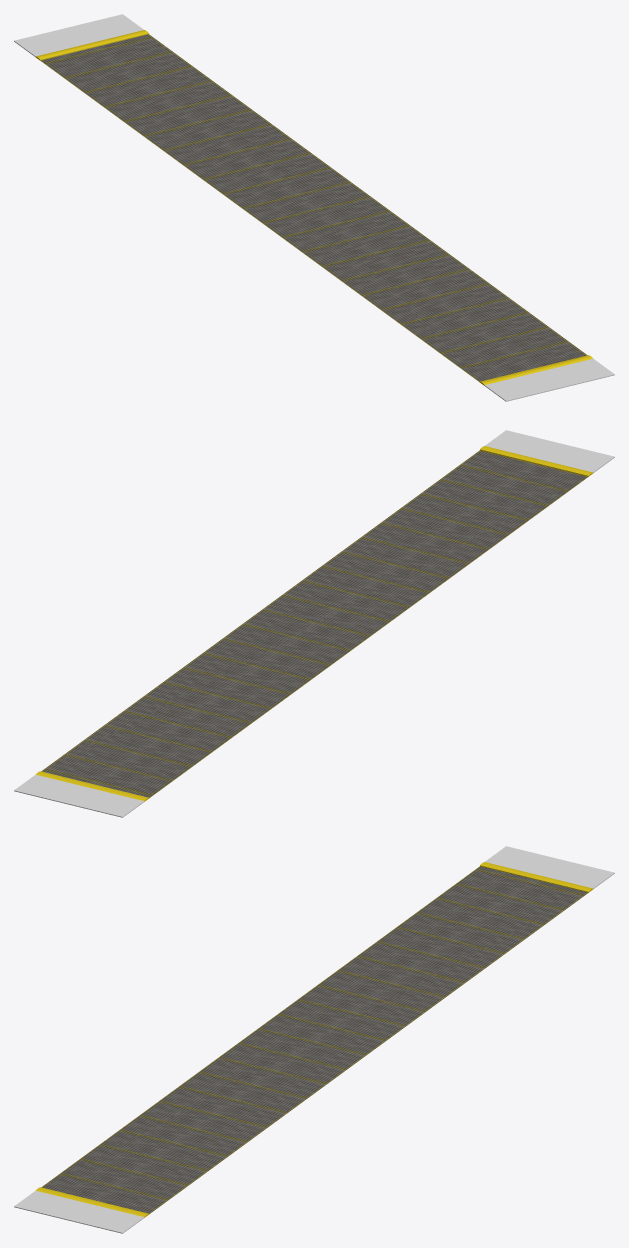
Rendered from HologramMovingWalkway.fbx.
3 views of the same model, one above another, from view 1: azimuth 30°, elevation 25°; view 2: azimuth 150°, elevation 25°; view 3: azimuth 330°, elevation 25° (orthographic).
Parts seen in each view (by area): view 1: Walkway, Threshold Surface, Threshold Sill; view 2: Walkway, Threshold Surface, Threshold Sill; view 3: Walkway, Threshold Surface, Threshold Sill.
Part boxes in pixels (x1,y1,x2,y2): Walkway: (40, 34, 587, 382); Threshold Surface: (14, 14, 614, 401); Threshold Sill: (35, 30, 592, 385); Walkway: (41, 450, 588, 798); Threshold Surface: (14, 430, 614, 817); Threshold Sill: (36, 446, 593, 801); Walkway: (41, 866, 588, 1214); Threshold Surface: (14, 846, 614, 1233); Threshold Sill: (36, 862, 593, 1217).
Bounding box in the file's own units: 200 × 2.52 × 1567.
